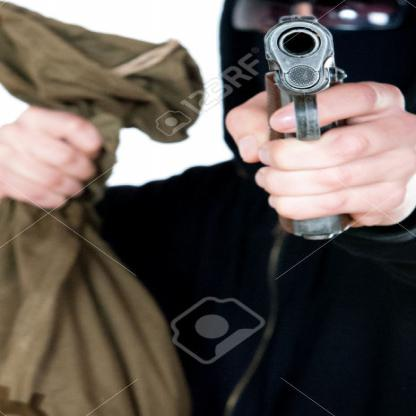gun: (214, 7, 415, 256)
